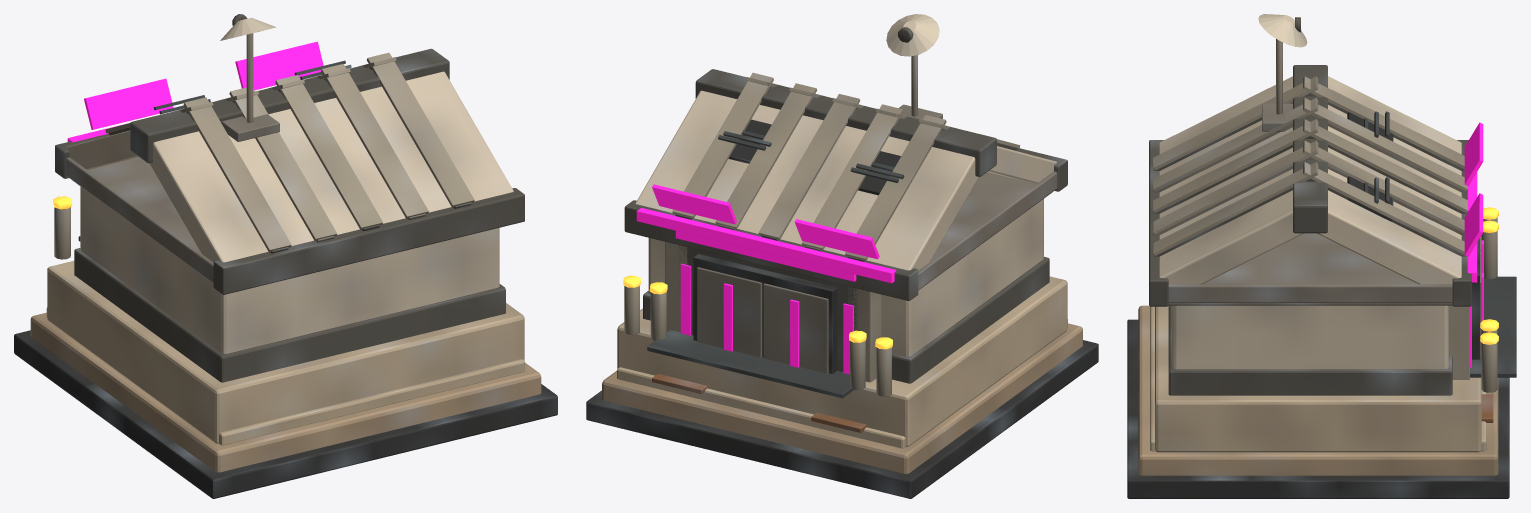
The model's file is barracks.glb.
The picture shows the model from 3 angles, left to right: view 1: azimuth 30°, elevation 25°; view 2: azimuth 150°, elevation 25°; view 3: azimuth 270°, elevation 25°; orthographic projection. The views are drawn at different scales.
Parts seen in each view (by area): view 1: Sandwar3D; view 2: Sandwar3D; view 3: Sandwar3D.
Boxes of the visible parts, x1,y1,x2,y2 form: Sandwar3D: (14, 14, 557, 498); Sandwar3D: (586, 14, 1098, 498); Sandwar3D: (1127, 14, 1516, 498).
Size of the model in its own units: 1.97 by 2.13 by 2.
12 materials, 11 textured.
